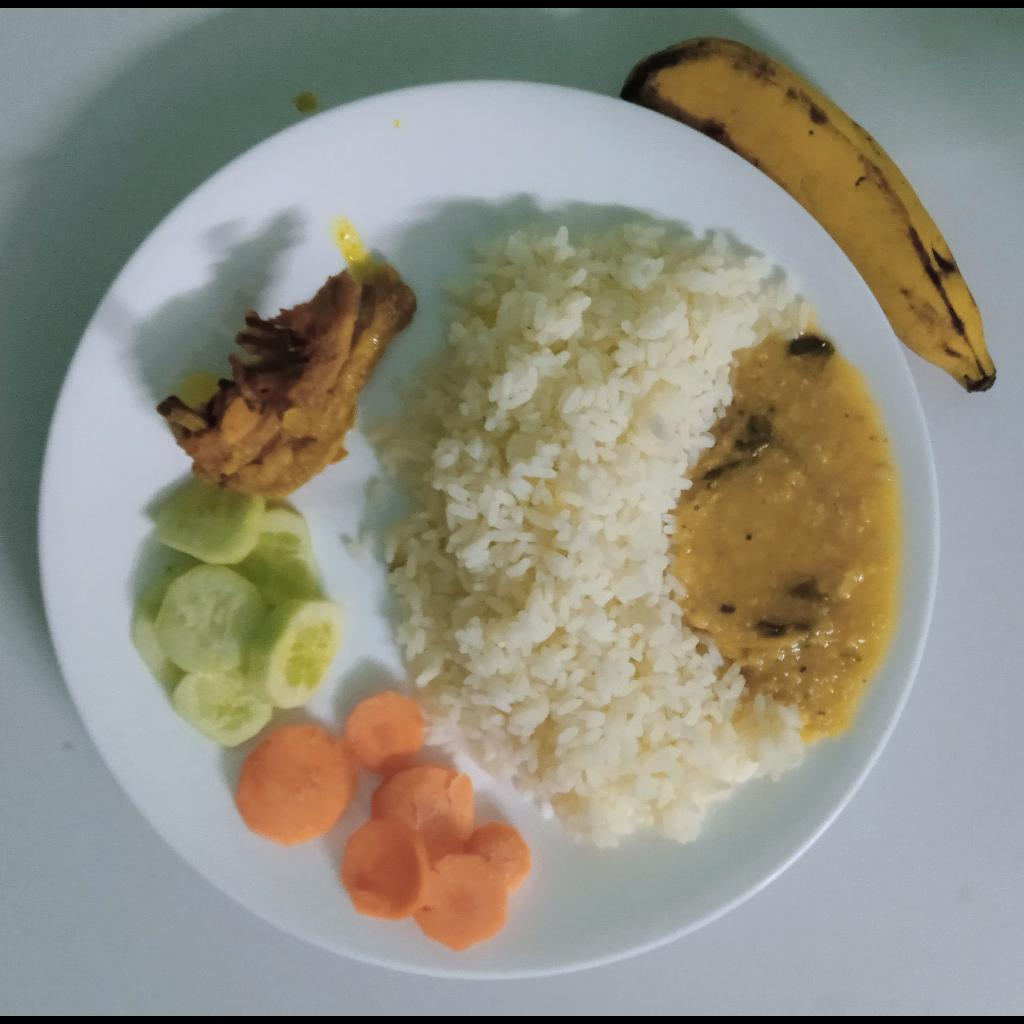banana: (621, 36, 999, 395)
carrot: (235, 689, 535, 953)
chicken: (156, 262, 417, 493)
cucumber: (131, 480, 344, 751)
daal: (669, 312, 897, 749)
rice: (366, 218, 794, 852)
